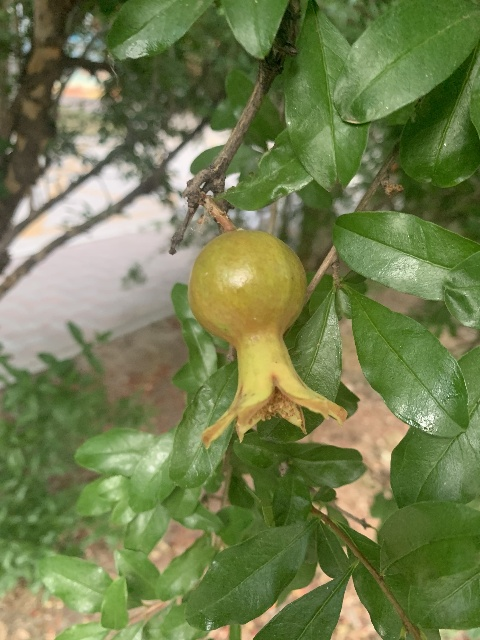mid-growth: (187, 229, 345, 449)
